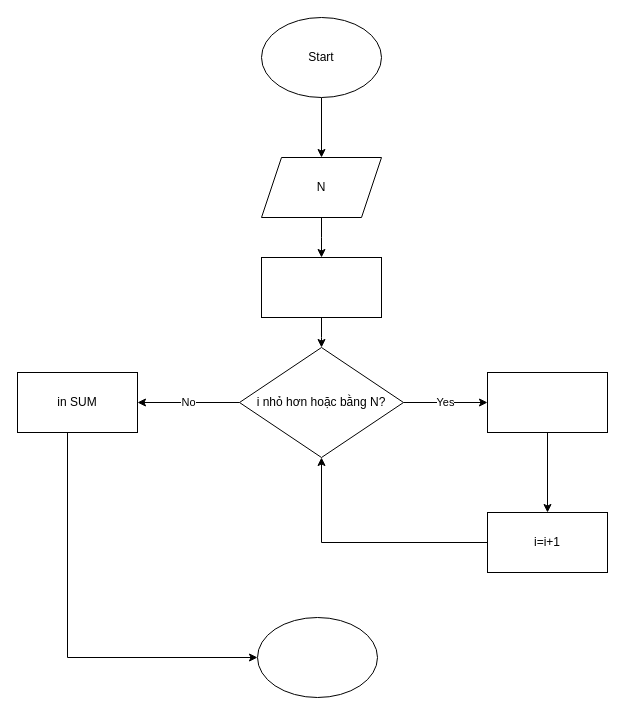
The diagram is 625 pixels wide and 715 high, and some of its shapes have lost their labels. The shapes that lost their labels are listed below. From the top down, each one's centre as x and y in pixels, then its label:
At (321,287): "Khởi tạo SUM=0 ,I=1".
At (547,402): "SUM=SUM+I".
At (317,657): "end".
